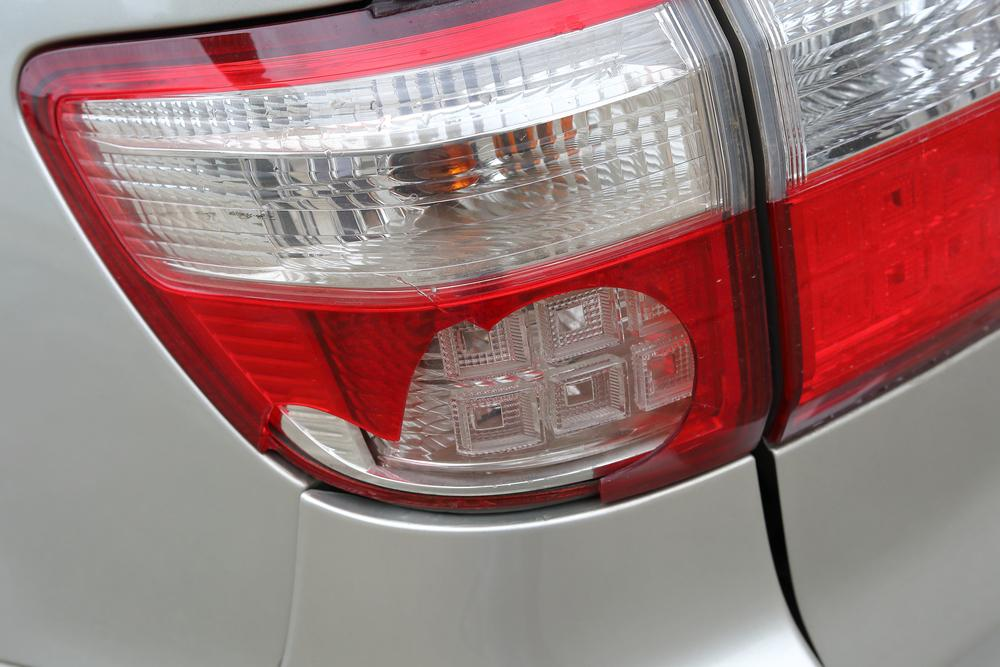lamp broken: (18, 0, 780, 512)
